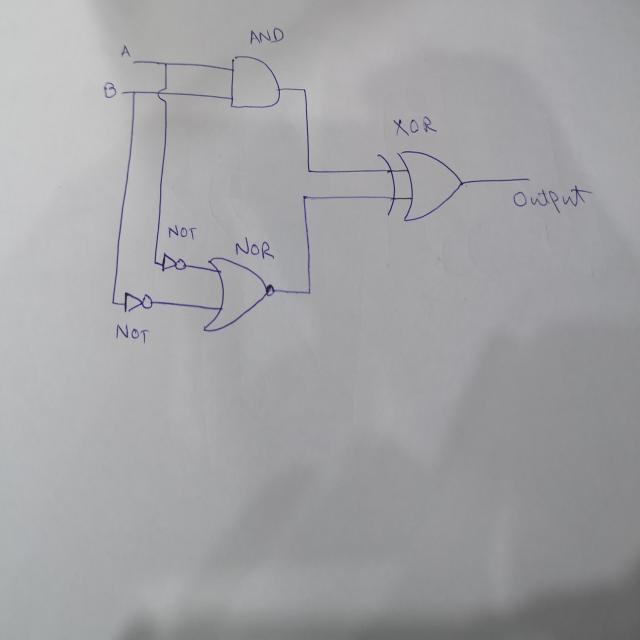crossover: (157, 84, 169, 106)
junction: (304, 284, 313, 298), (300, 82, 308, 96), (304, 165, 312, 177), (162, 59, 170, 70), (300, 192, 308, 202), (129, 88, 137, 97), (110, 297, 116, 306), (152, 258, 158, 266)
terminal: (524, 171, 532, 184), (130, 58, 137, 67), (120, 88, 128, 95)
text: (511, 182, 593, 216), (234, 237, 276, 262), (392, 114, 438, 136), (114, 320, 148, 345), (165, 223, 198, 244), (248, 26, 285, 44), (102, 80, 116, 97), (119, 42, 131, 58)
